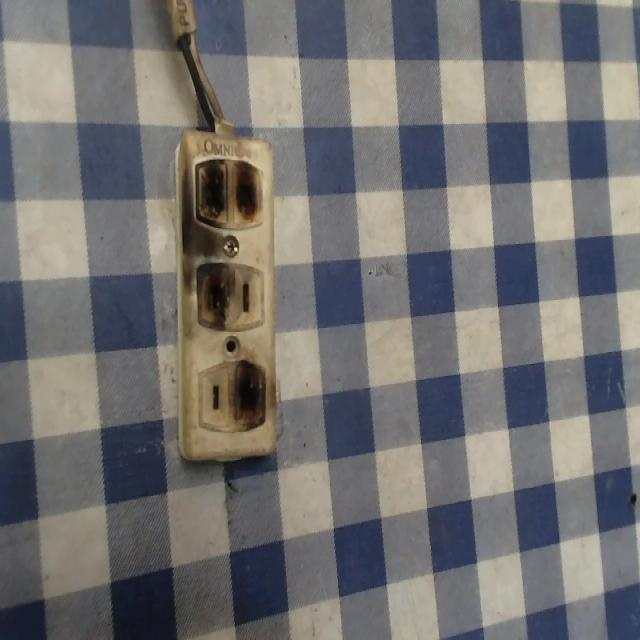-: (191, 154, 270, 234), (226, 344, 276, 435), (190, 262, 237, 330)
